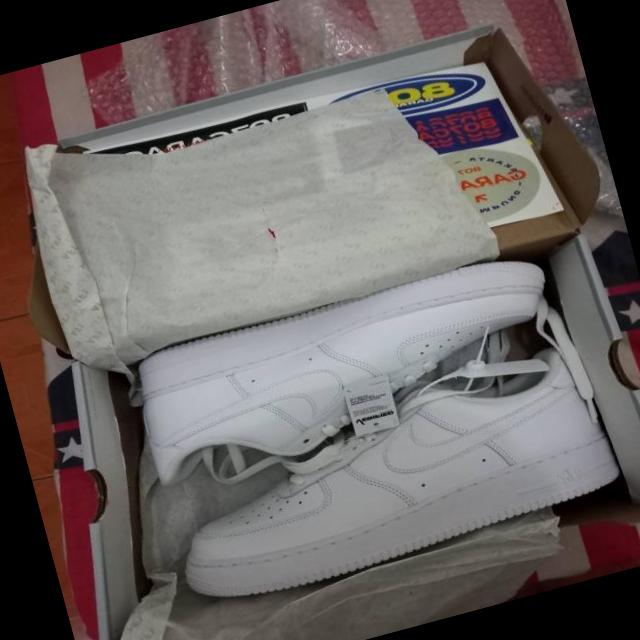nike_original_airforce: (152, 346, 634, 622), (116, 238, 573, 502)
